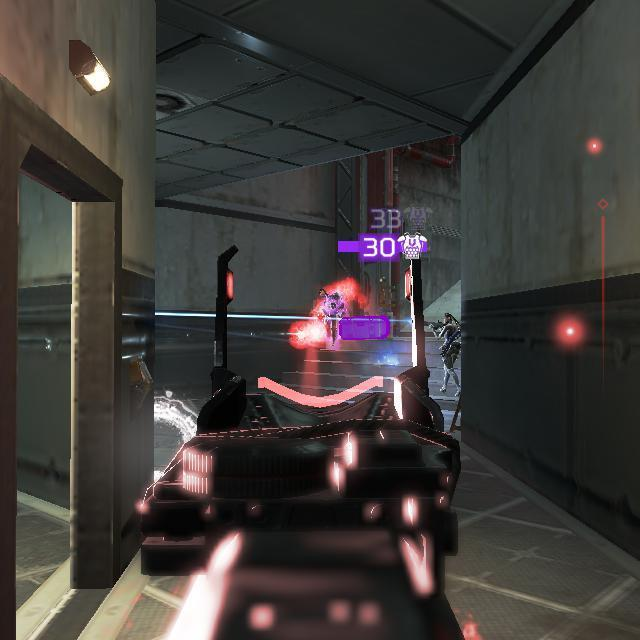avatar: (437, 310, 463, 398)
